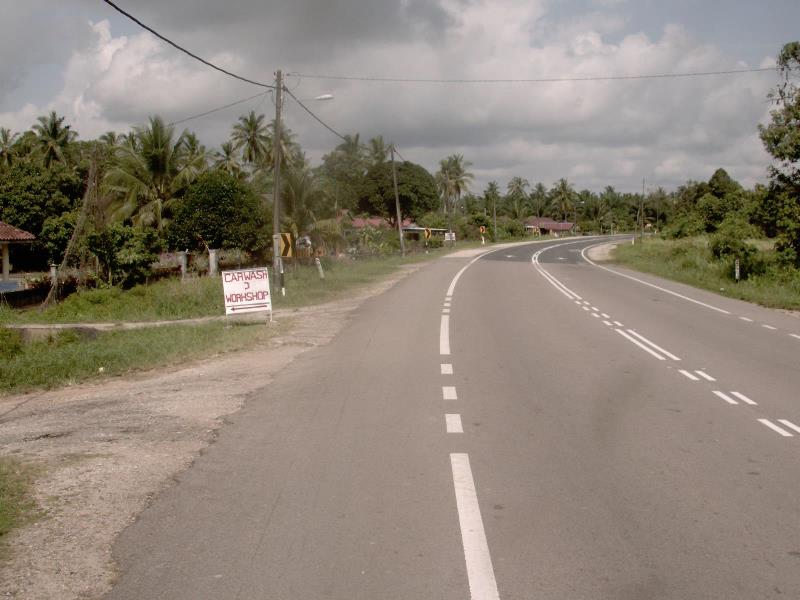ads_sign: (215, 261, 279, 321)
